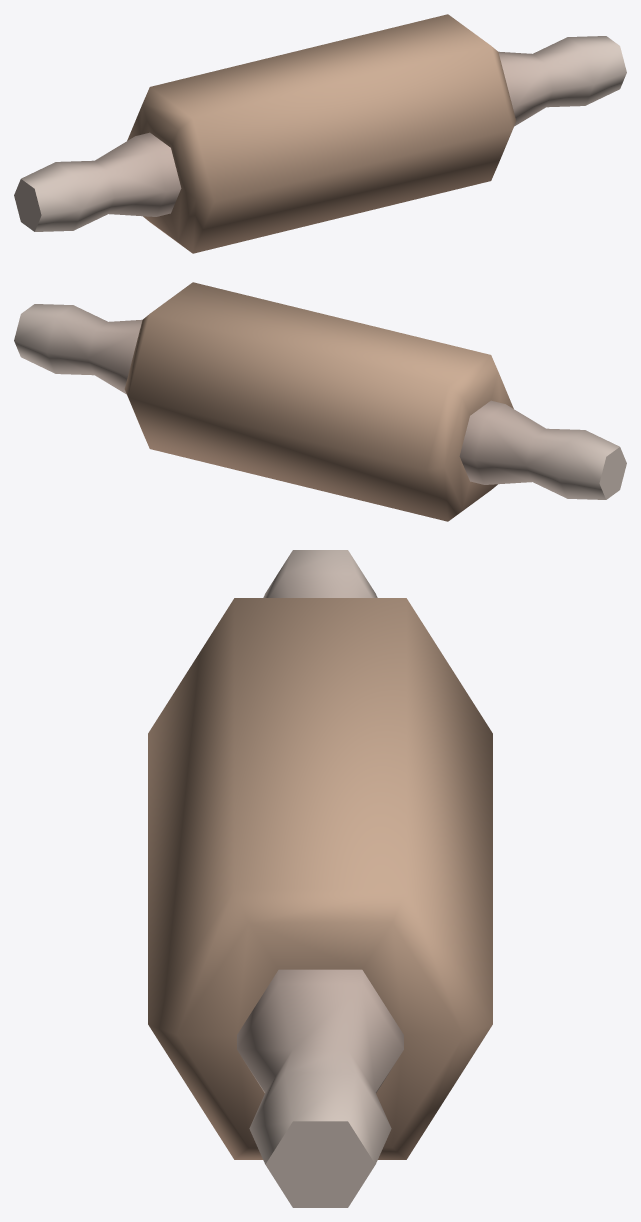
The model's file is rolling-pin.glb.
The picture shows the model from 3 angles, top to bottom: view 1: azimuth 30°, elevation 25°; view 2: azimuth 150°, elevation 25°; view 3: azimuth 270°, elevation 25°; orthographic projection. The views are drawn at different scales.
Visible parts, largest first — view 1: rolling-pin; view 2: rolling-pin; view 3: rolling-pin.
Boxes of the visible parts, box(x1,y1,x2,y2) form: rolling-pin: box(14, 14, 626, 253); rolling-pin: box(14, 282, 626, 521); rolling-pin: box(148, 550, 492, 1207).
Bounding box in the file's own units: 0.5374 × 0.1187 × 0.1371.
